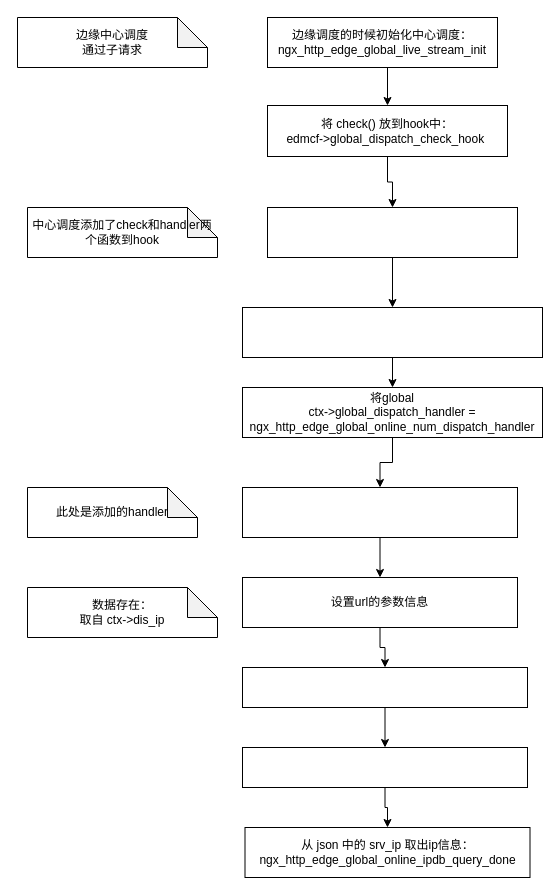
The diagram is 560 pixels wide and 895 high, and some of its shapes have lost their labels. Here are the shapes that lost their labels. From the top down, the centre of each, then its label:
At (392,232): "在边缘调度初始化的时候：hook执行的check函数添加到handler中 ngx_http_edge_global_dispatch_check".
At (392,332): "执行中心调试的check： ngx_http_edge_global_online_num_dispatch_check".
At (380,512): "handler的时候执行中心调度的handler： ngx_http_edge_global_dispatch_handler".
At (385,687): "使用子请求去查询数据 ngx_http_subrequest".
At (385,767): "从 r->upstream->out_bufs->buf->pos 从取出 json 串".
